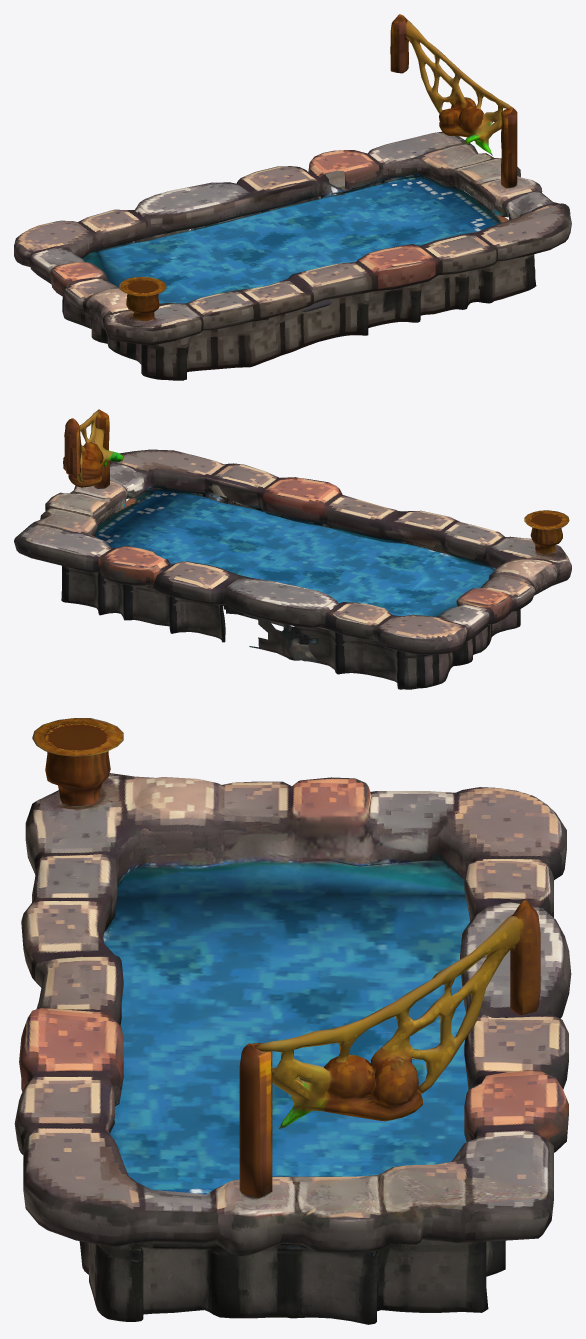
Rendered from pond.glb.
3 views of the same model, one above another, from view 1: azimuth 30°, elevation 25°; view 2: azimuth 150°, elevation 25°; view 3: azimuth 270°, elevation 25° (orthographic). The views are drawn at different scales.
Size of the model in its own units: 1.9 by 0.775 by 0.998.
Materials: 1 (1 with a texture image).
